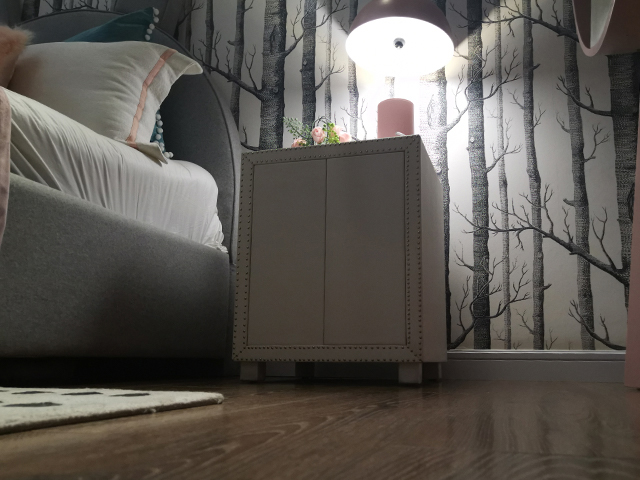bed: (1, 7, 240, 379)
cabinet: (230, 131, 451, 388)
carpet: (1, 385, 226, 436)
